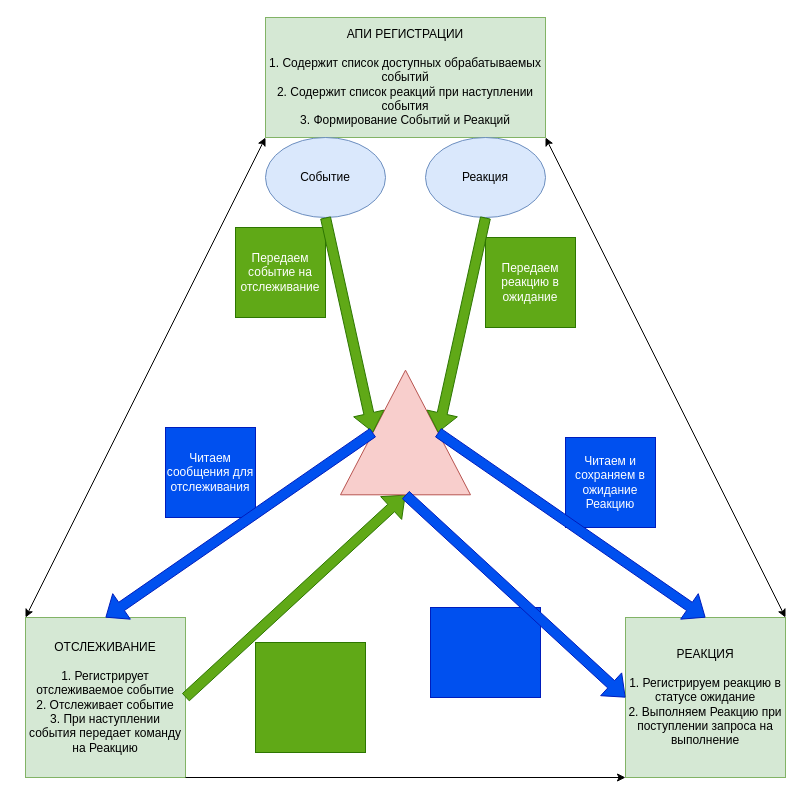
Image size: 812x803. Some labels were removed from this diagram. Here are the shapes that lost their labels. From the top down, the centre of each, then its label:
At (405,432): "брокер".
At (485,652): "Читаем сообщение и выполняем Реакцию.".
At (310,697): "Передаем состояние события разрешая реакцию".
